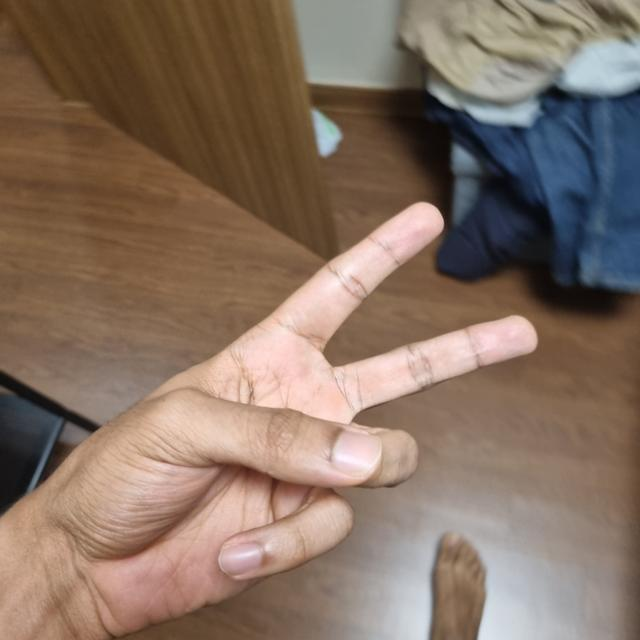Scissors: (16, 207, 535, 633)
